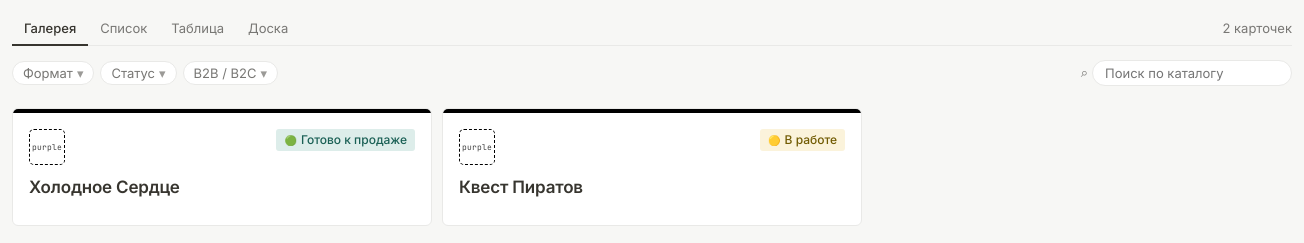
CatalogView › filters via a facet dropdown selection
Click the button "Формат ▾" at x=53, y=73, box left=12, top=61, right=94, bottom=85
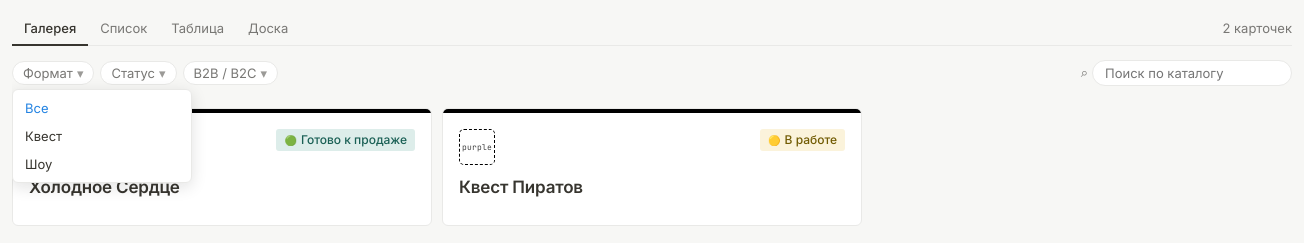
Click the button "Квест" at x=102, y=136, box left=17, top=122, right=187, bottom=150
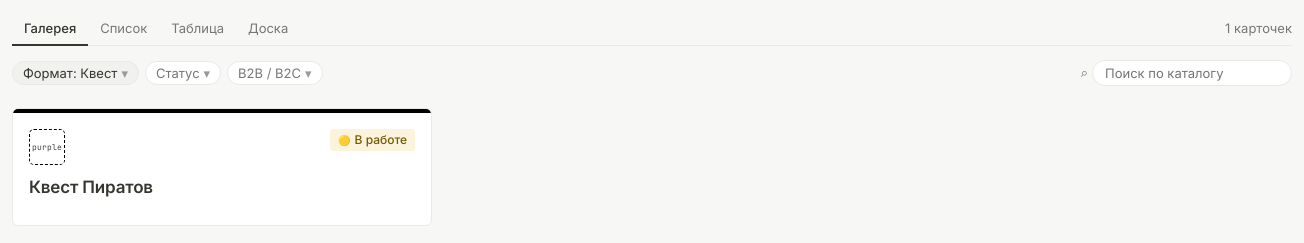
Expected: the number of links is 1, left=12, top=108, right=432, bottom=226
